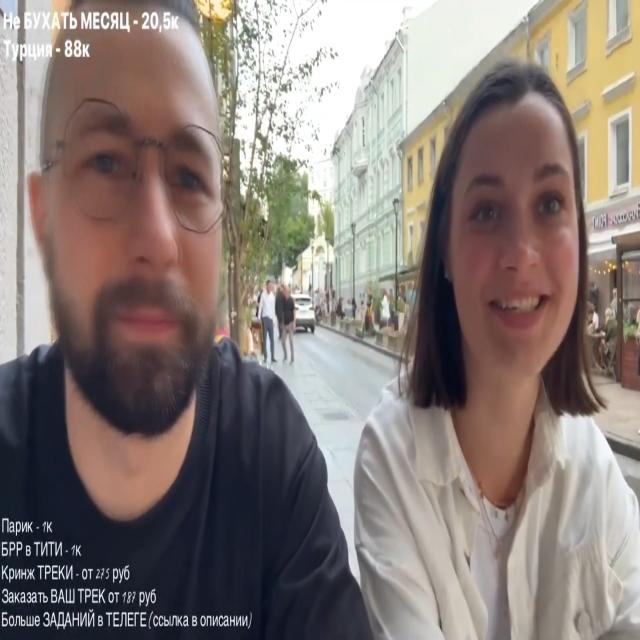Person: (0, 26, 347, 640), (337, 46, 640, 639), (255, 279, 280, 364), (274, 280, 296, 362), (378, 291, 392, 330)
